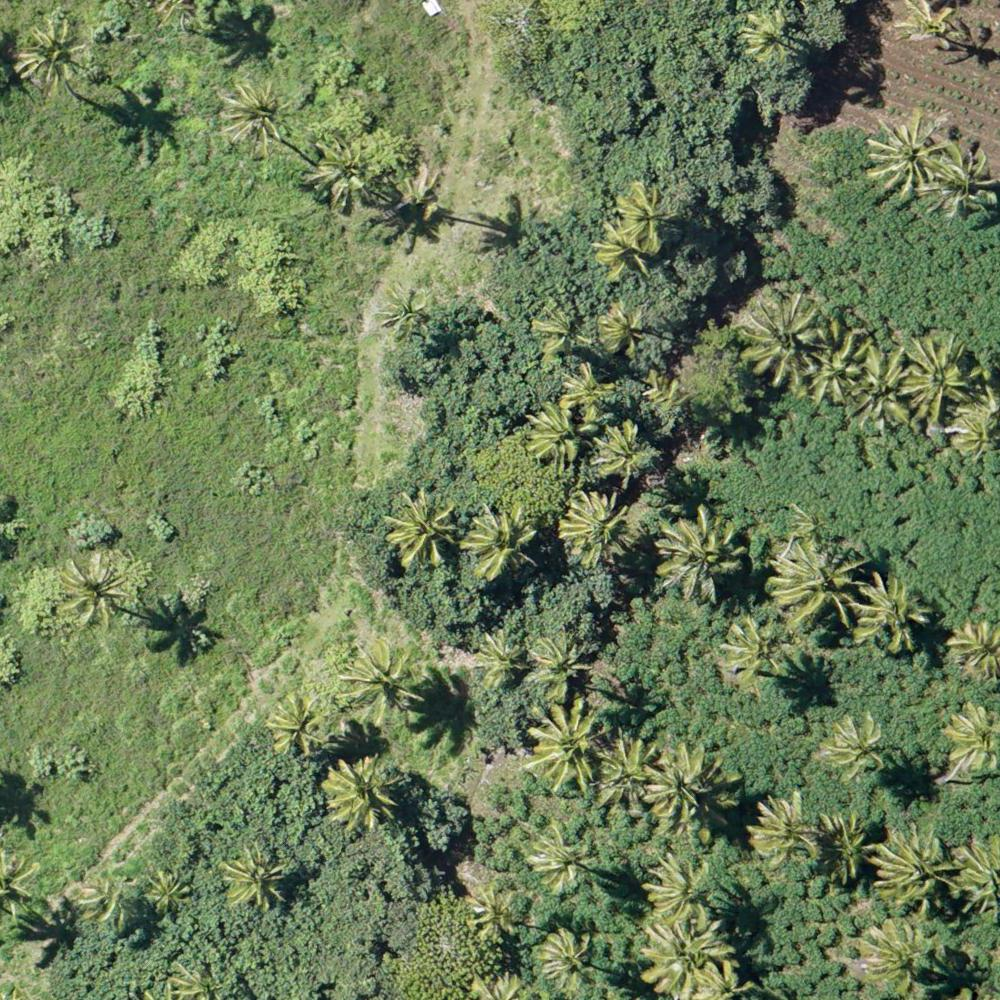Palm: (740, 293, 826, 384), (649, 744, 734, 833), (878, 826, 962, 914), (658, 507, 741, 596), (863, 119, 956, 198), (772, 542, 857, 628), (338, 641, 420, 726), (899, 328, 970, 421), (526, 707, 605, 790), (381, 486, 457, 571), (638, 921, 728, 992), (647, 848, 720, 935), (861, 918, 945, 991), (855, 571, 930, 649), (53, 557, 129, 630), (466, 505, 539, 579), (20, 18, 92, 93), (216, 78, 287, 152), (326, 755, 396, 830), (559, 492, 635, 561), (939, 700, 1000, 783), (845, 347, 909, 424), (750, 793, 818, 865), (722, 613, 786, 688), (611, 183, 678, 254), (218, 845, 290, 910), (930, 144, 996, 214), (522, 632, 592, 698), (820, 713, 886, 781), (525, 822, 593, 888), (601, 734, 651, 821), (308, 138, 378, 200), (265, 694, 330, 759), (526, 401, 589, 467), (588, 422, 654, 478), (469, 885, 530, 945), (538, 928, 595, 991), (821, 810, 871, 878), (473, 627, 525, 684), (950, 616, 1000, 674), (893, 1, 953, 49), (950, 407, 1000, 463), (737, 11, 796, 57), (529, 307, 583, 357), (561, 364, 614, 413), (595, 305, 645, 352), (142, 865, 191, 911)
